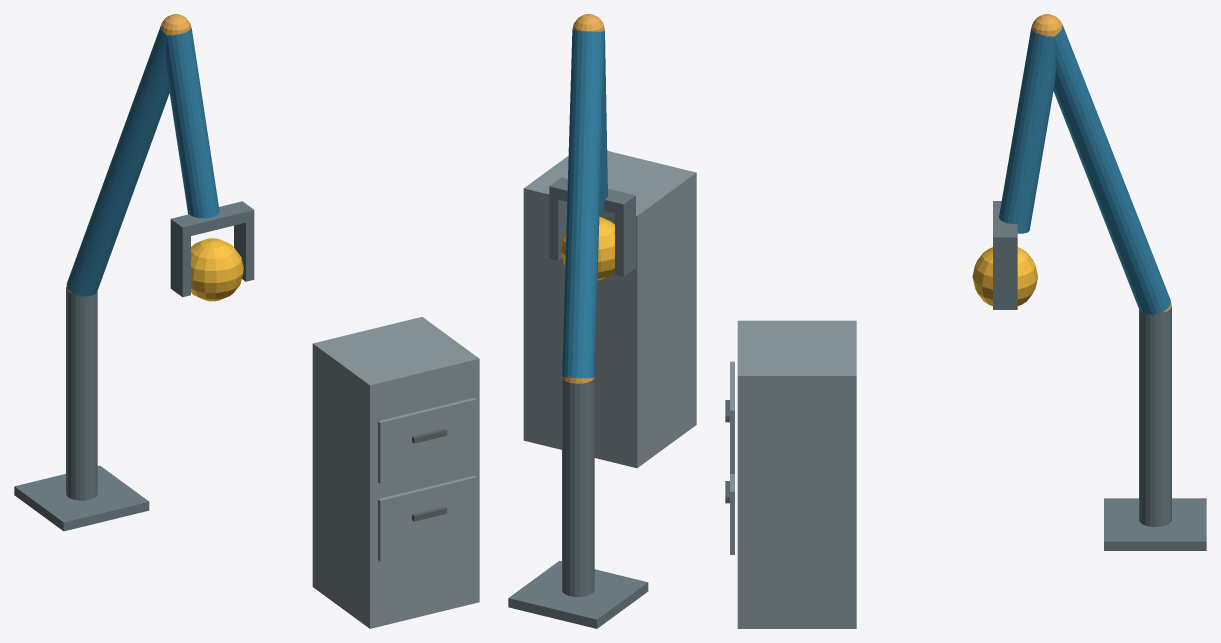
The picture shows the model from 3 angles, left to right: view 1: azimuth 30°, elevation 25°; view 2: azimuth 150°, elevation 25°; view 3: azimuth 270°, elevation 25°; orthographic projection. The views are drawn at different scales.
Visible parts, largest first — view 1: cabinet_1 body, moving link 1, fixed post, cabinet_1 drawer front, cabinet_1 drawer front.001, moving link 2, pedestal, ball ball_1, gripper bridge, gripper finger -1, gripper finger 1; view 2: cabinet_1 body, moving link 1, fixed post, pedestal, gripper finger -1, ball ball_1, gripper bridge, gripper finger 1, moving link 2, joint 2; view 3: cabinet_1 body, moving link 1, fixed post, moving link 2, pedestal, ball ball_1, gripper finger 1, gripper bridge.
Part boxes in pixels (left/top/right/bottom): cabinet_1 body: left=312, top=317, right=479, bottom=628; moving link 1: left=66, top=24, right=169, bottom=296; fixed post: left=66, top=287, right=97, bottom=500; cabinet_1 drawer front: left=378, top=475, right=476, bottom=561; cabinet_1 drawer front.001: left=378, top=398, right=476, bottom=483; moving link 2: left=166, top=27, right=219, bottom=218; pedestal: left=14, top=465, right=149, bottom=531; ball ball_1: left=191, top=238, right=243, bottom=301; gripper bridge: left=170, top=201, right=254, bottom=237; gripper finger -1: left=170, top=230, right=190, bottom=297; gripper finger 1: left=234, top=221, right=254, bottom=281; cabinet_1 body: left=523, top=151, right=696, bottom=468; moving link 1: left=562, top=30, right=604, bottom=378; fixed post: left=562, top=377, right=594, bottom=596; pedestal: left=508, top=560, right=648, bottom=628; gripper finger -1: left=615, top=207, right=635, bottom=276; ball ball_1: left=560, top=216, right=614, bottom=280; gripper bridge: left=549, top=177, right=635, bottom=215; gripper finger 1: left=549, top=197, right=567, bottom=260; moving link 2: left=599, top=28, right=607, bottom=212; joint 2: left=572, top=14, right=604, bottom=31; cabinet_1 body: left=737, top=320, right=856, bottom=628; moving link 1: left=1053, top=25, right=1170, bottom=315; fixed post: left=1139, top=306, right=1171, bottom=526; moving link 2: left=999, top=27, right=1055, bottom=233; pedestal: left=1104, top=498, right=1206, bottom=550; ball ball_1: left=972, top=247, right=1037, bottom=306; gripper finger 1: left=993, top=248, right=1017, bottom=309; gripper bridge: left=993, top=201, right=1017, bottom=248.
Bounding box in the file's own units: 0.6992 × 1.44 × 1.17.
